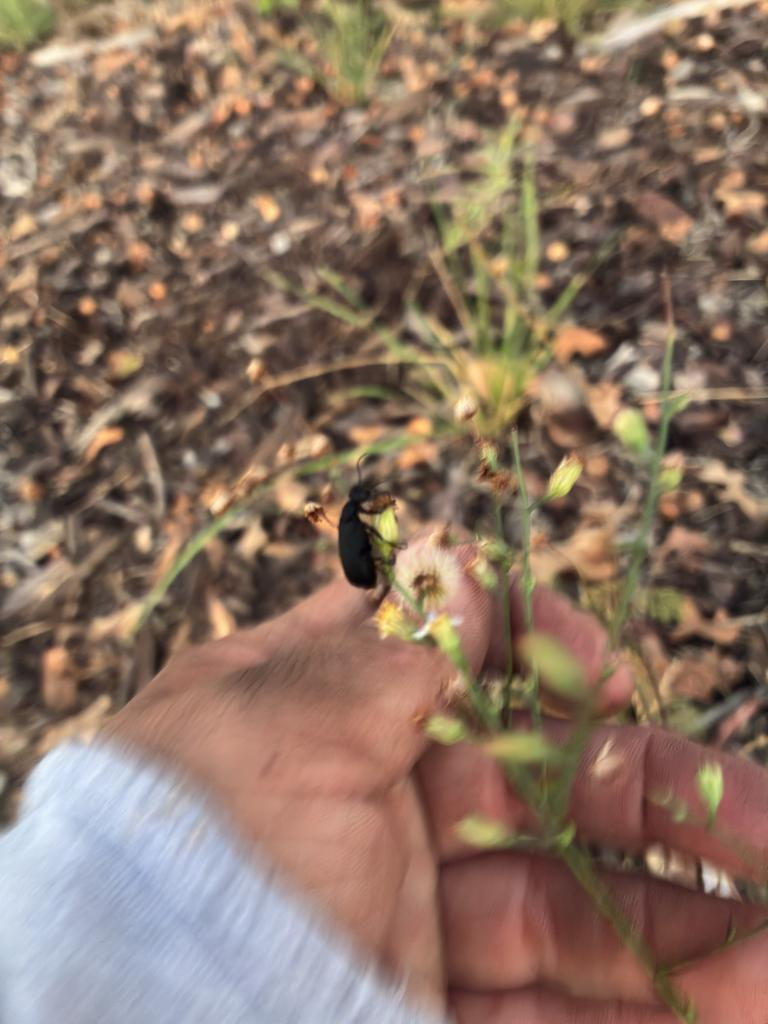blister_beetle: (298, 434, 421, 626)
